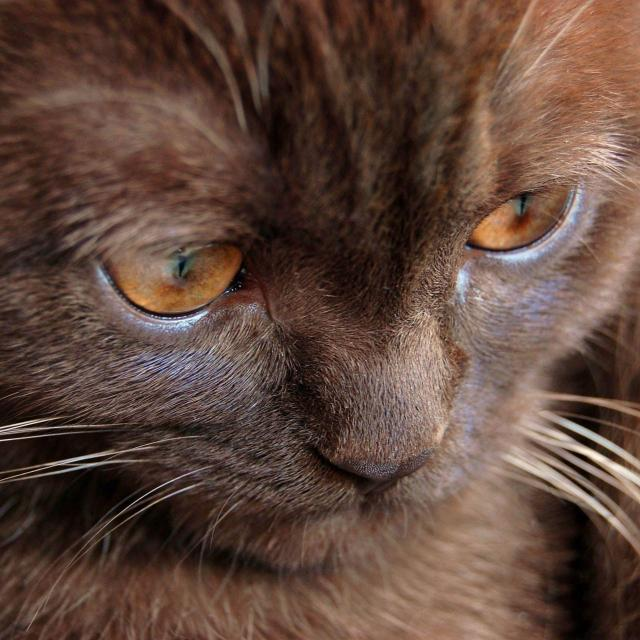Sad: (45, 97, 610, 579)
